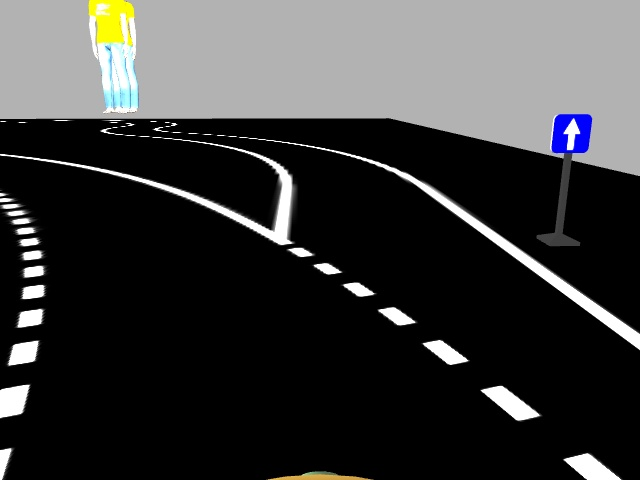OneWay: (550, 112, 590, 151)
